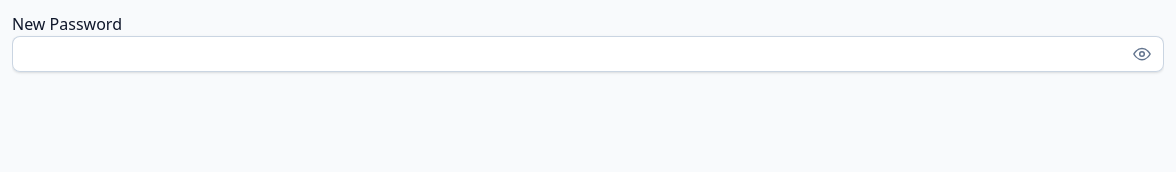
PasswordInput › preserves the typed value and the react-hook-form style ref/onChange wiring
Type "Correct-Horse-9!" into the password field labelled "New Password" at (588, 54), box [12,36,1164,72]
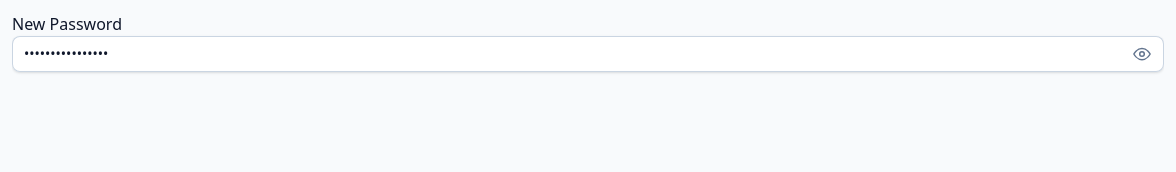
Click the button named "Show text" at (1142, 54), box [1120,36,1164,72]
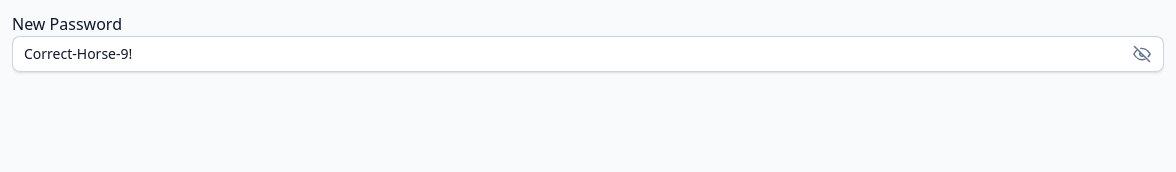
Expected: the field labelled "New Password" shows its text, [12,36,1164,72]
